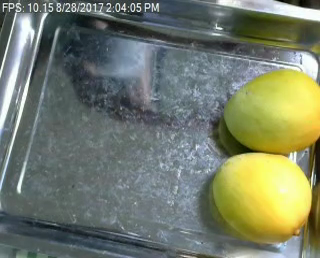Mango: (210, 152, 317, 247), (219, 65, 320, 157)
